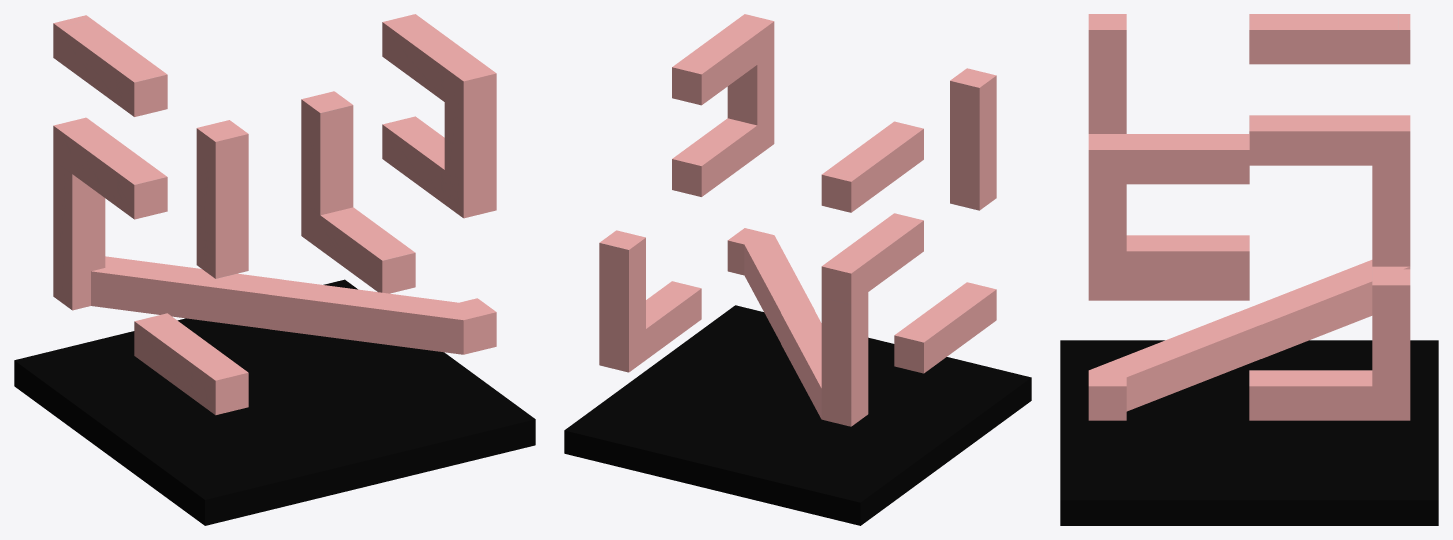
3 views of the same model, side by side, from view 1: azimuth 30°, elevation 25°; view 2: azimuth 150°, elevation 25°; view 3: azimuth 270°, elevation 25° (orthographic). The views are drawn at different scales.
Parts seen in each view (by area): view 1: 4막대중간, 바닥1; view 2: 4막대중간, 바닥1; view 3: 4막대중간, 바닥1.
Part boxes in pixels (bbox=[...]): 4막대중간: bbox=[53, 14, 496, 415]; 바닥1: bbox=[14, 279, 535, 525]; 4막대중간: bbox=[599, 14, 996, 426]; 바닥1: bbox=[564, 305, 1031, 525]; 4막대중간: bbox=[1088, 14, 1410, 420]; 바닥1: bbox=[1060, 340, 1438, 525].
Size of the model in its own units: 4 by 4.25 by 4.
24 materials, 24 textured.
